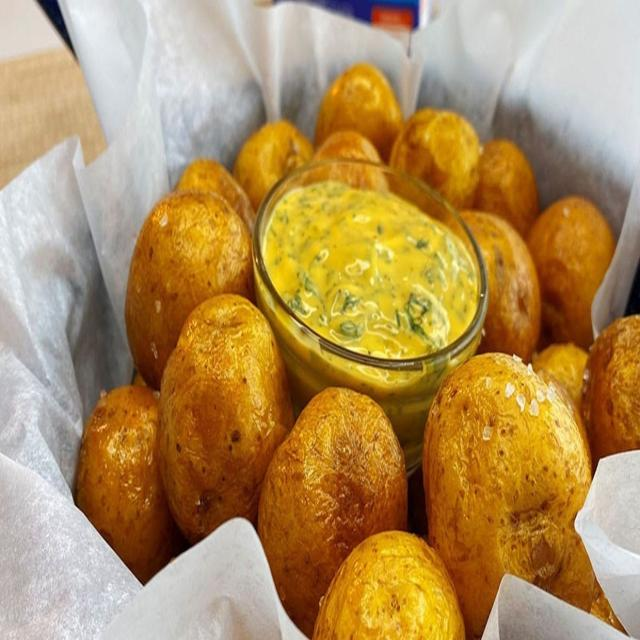papa: (418, 348, 596, 616), (252, 368, 413, 632), (116, 185, 261, 385)
